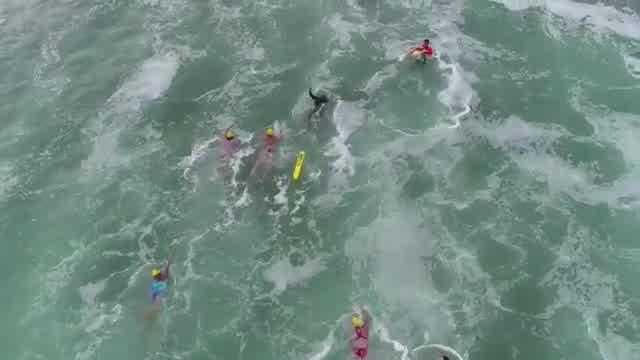human: (348, 312, 372, 359), (150, 264, 173, 300), (414, 35, 434, 59), (262, 126, 279, 150)
